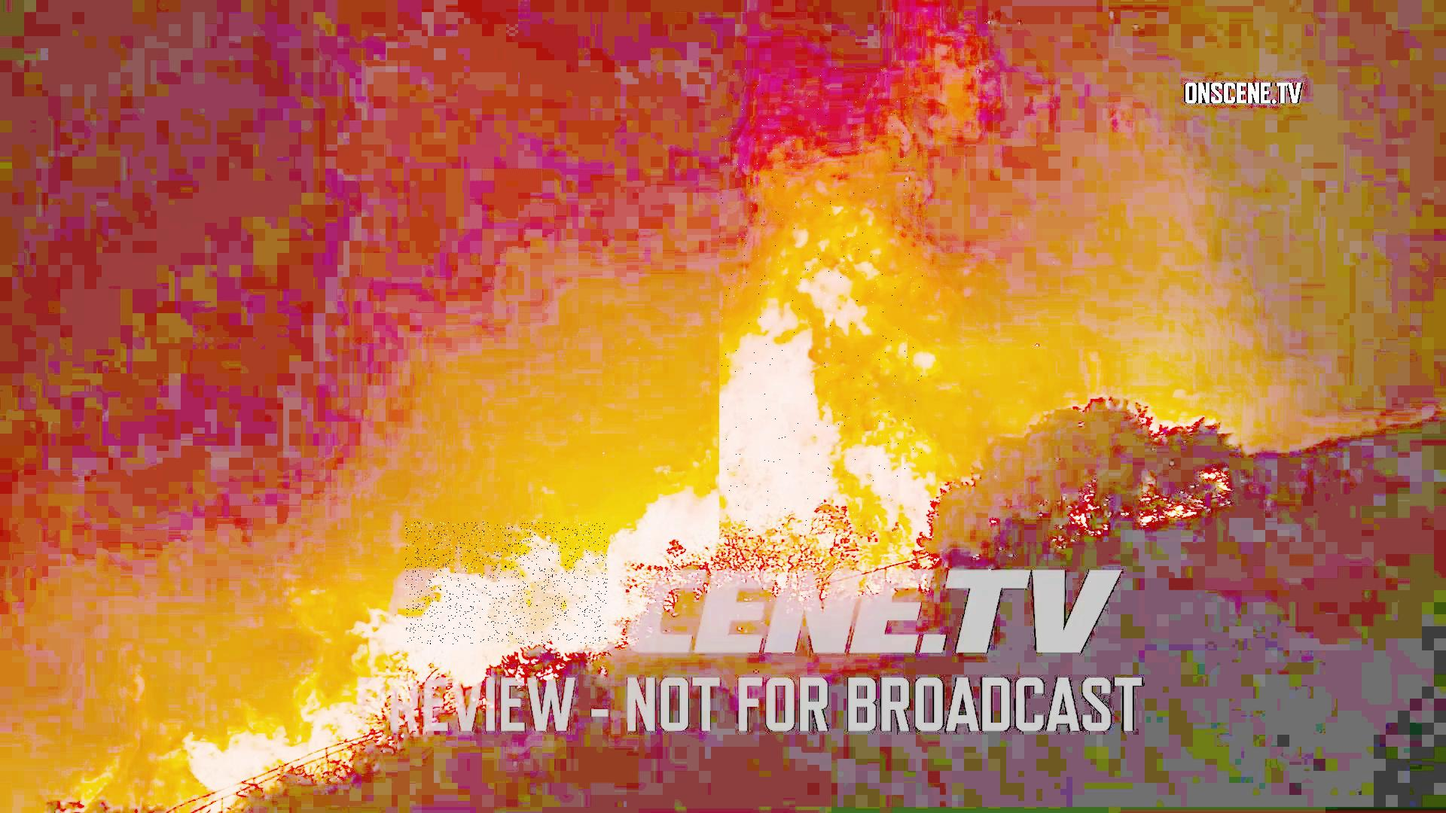fire: (719, 68, 923, 542), (405, 522, 608, 645)
